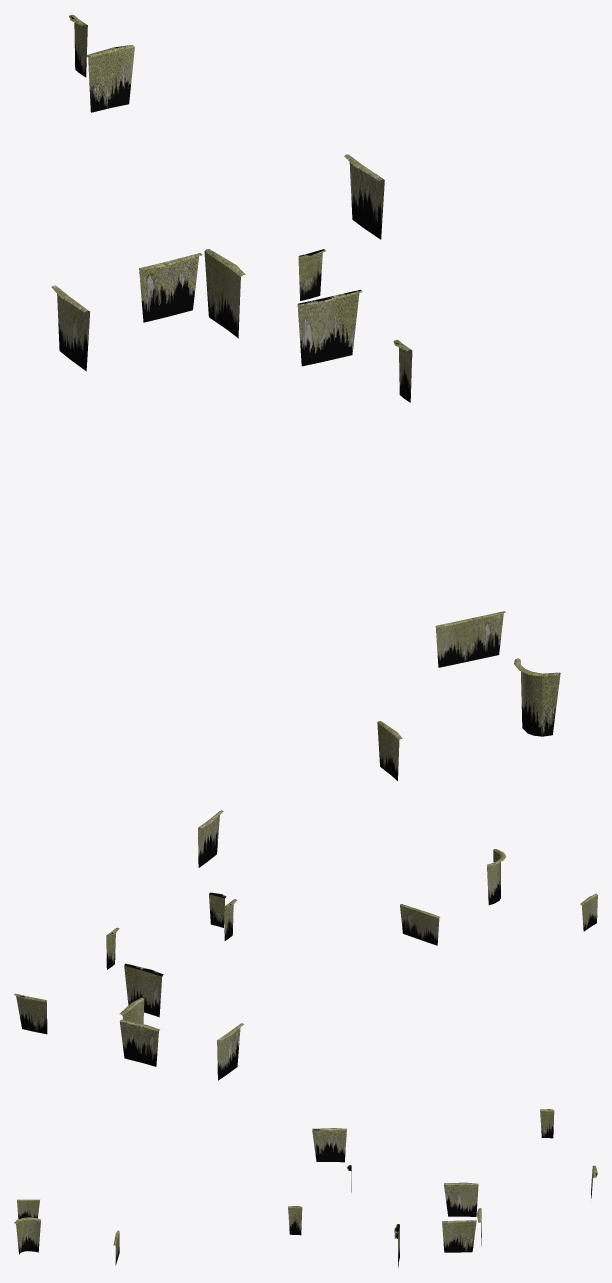
The model's file is SM_Chateaux_04_02.fbx.
3 renders of one model, top to bottom at view 1: azimuth 30°, elevation 25°; view 2: azimuth 150°, elevation 25°; view 3: azimuth 270°, elevation 25°, orthographic. The views are drawn at different scales.
Visible parts, largest first — view 1: SM_Chateaux_04_02; view 2: SM_Chateaux_04_02; view 3: SM_Chateaux_04_02.
Part boxes in pixels (box(x1,y1,x2,y2)): SM_Chateaux_04_02: box(51, 14, 560, 780); SM_Chateaux_04_02: box(14, 810, 597, 1080); SM_Chateaux_04_02: box(14, 1109, 597, 1267).
Size of the model in its own units: 3158 by 2865 by 9357.
